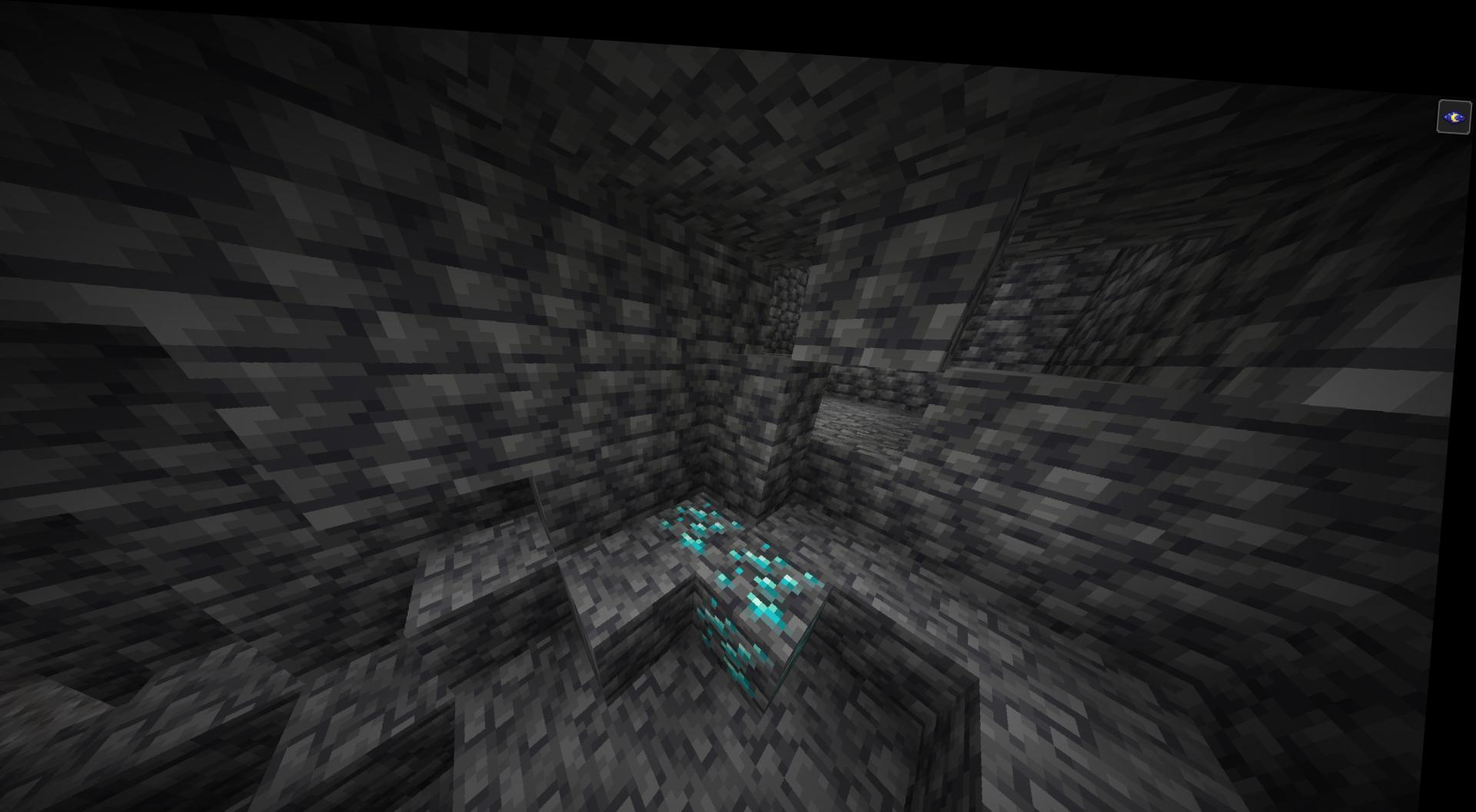diamond ore: (722, 525, 830, 618), (697, 585, 788, 694), (664, 477, 757, 549)
